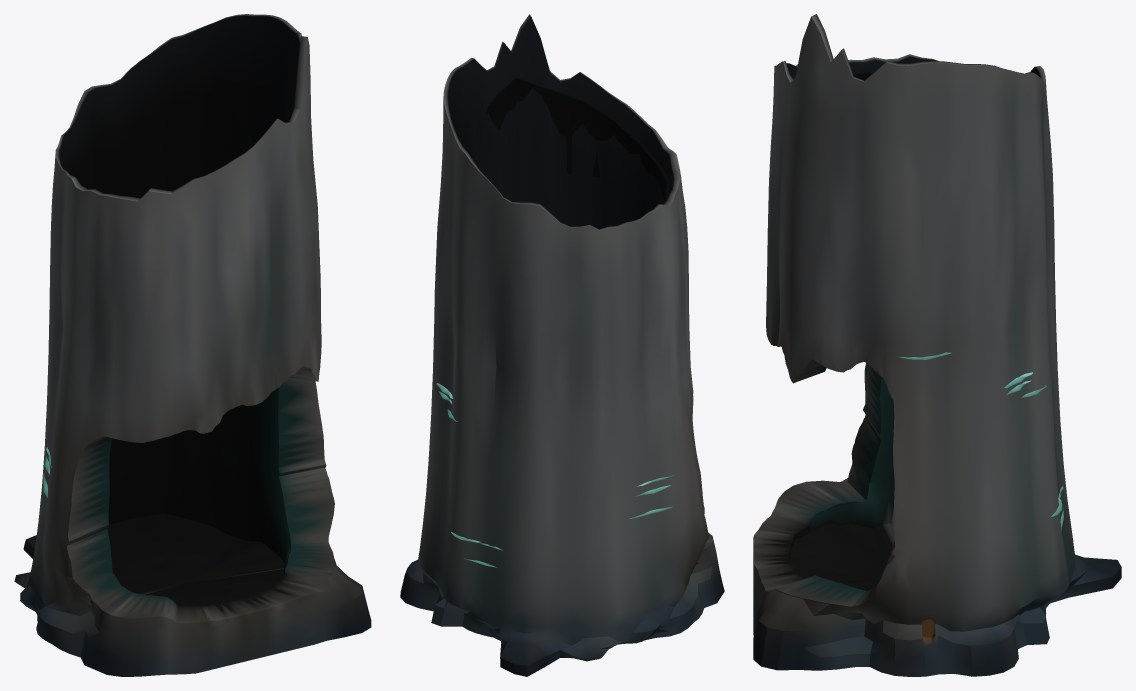
The model's file is hollowbole_moonrise.glb.
The picture shows the model from 3 angles, left to right: view 1: azimuth 30°, elevation 25°; view 2: azimuth 150°, elevation 25°; view 3: azimuth 270°, elevation 25°; orthographic projection. The views are drawn at different scales.
Parts seen in each view (by area): view 1: towerSkinBoleShell; view 2: towerSkinBoleShell, towerSkinBoleCurtain, towerSkinBoleShelves; view 3: towerSkinBoleShell, towerSkinBoleShelves.
Boxes of the visible parts, x1=… form: towerSkinBoleShell: x1=14, y1=14, x2=371, y2=676; towerSkinBoleShell: x1=400, y1=14, x2=724, y2=676; towerSkinBoleCurtain: x1=486, y1=77, x2=670, y2=203; towerSkinBoleShelves: x1=436, y1=382, x2=674, y2=567; towerSkinBoleShell: x1=753, y1=14, x2=1121, y2=676; towerSkinBoleShelves: x1=897, y1=352, x2=1063, y2=530.
Bounding box in the file's own units: 6.14 × 12.29 × 6.52.
